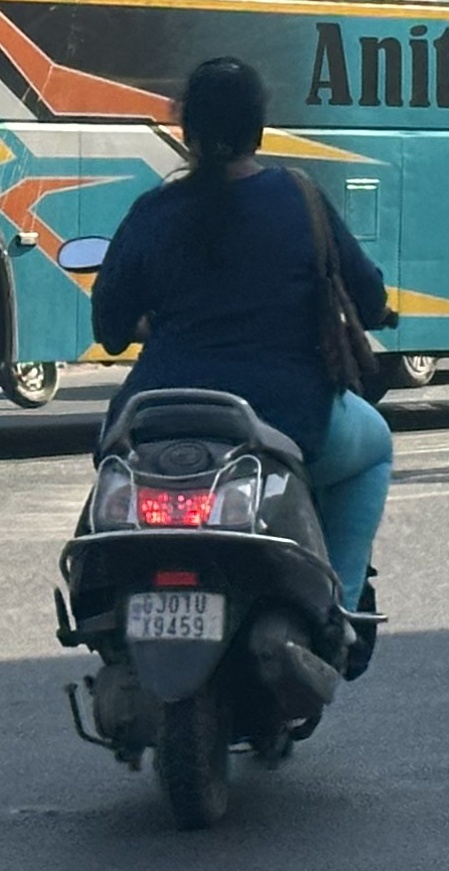BikeWithRider: (43, 52, 406, 834)
NoHelmet: (178, 55, 268, 172)
